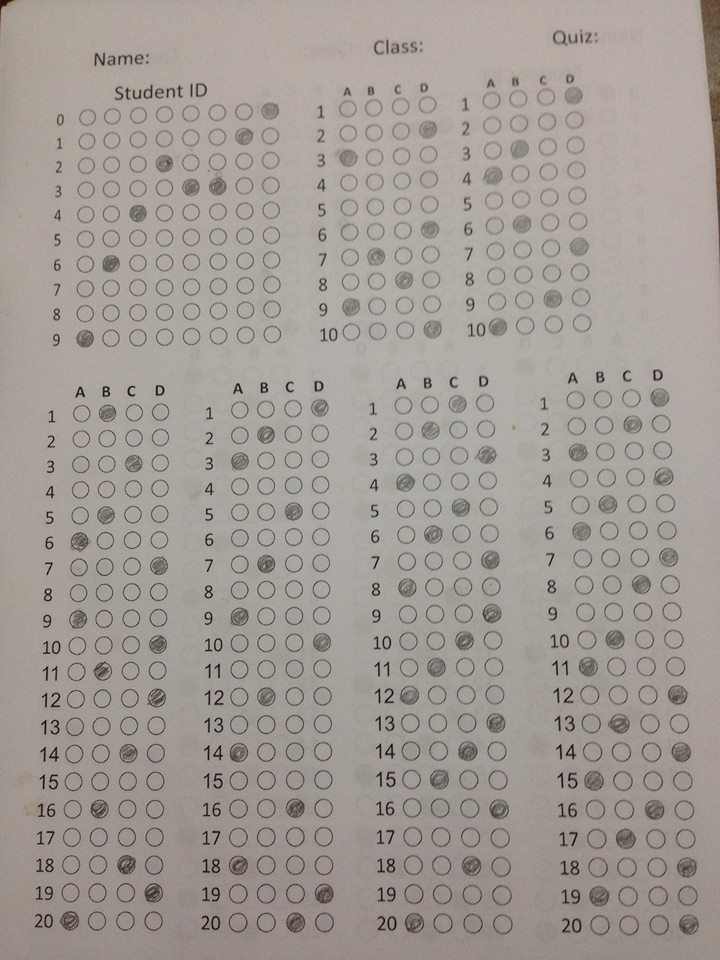not-c: (312, 909, 336, 934), (488, 854, 513, 878), (486, 739, 510, 763), (491, 911, 514, 935), (313, 768, 335, 793), (457, 797, 482, 819), (482, 683, 505, 706), (430, 882, 453, 905), (512, 288, 535, 311), (254, 911, 278, 933), (428, 738, 450, 762), (491, 825, 513, 849), (402, 882, 426, 904), (643, 770, 667, 792), (284, 657, 305, 682), (513, 238, 534, 263), (313, 738, 333, 764), (143, 910, 165, 933), (312, 711, 334, 734), (460, 825, 482, 848), (569, 260, 591, 283), (569, 493, 592, 515), (669, 712, 691, 735), (310, 499, 331, 523), (314, 853, 334, 878), (453, 686, 478, 706), (403, 852, 423, 877), (144, 771, 166, 793), (88, 853, 110, 875), (283, 398, 305, 420), (228, 714, 250, 736), (480, 575, 502, 597), (400, 824, 422, 846), (430, 824, 452, 846), (461, 883, 483, 905), (677, 885, 699, 907), (310, 658, 333, 679), (256, 853, 277, 876), (338, 171, 359, 194), (423, 551, 444, 574), (426, 711, 449, 732), (486, 768, 509, 789), (432, 913, 455, 934), (563, 108, 586, 129), (639, 713, 660, 736), (646, 855, 669, 876), (618, 884, 639, 907), (648, 913, 669, 936), (481, 657, 505, 677), (424, 685, 448, 705), (587, 915, 611, 935), (257, 825, 276, 850), (540, 265, 565, 284), (284, 770, 305, 792), (313, 797, 335, 818), (475, 393, 496, 415), (450, 470, 471, 492), (431, 855, 453, 876), (491, 884, 513, 905), (464, 911, 486, 932), (594, 414, 615, 436), (649, 413, 671, 434), (660, 601, 682, 622), (606, 655, 628, 676), (636, 655, 658, 676), (607, 684, 629, 705), (580, 742, 602, 763), (611, 743, 633, 764), (672, 772, 694, 793), (674, 799, 695, 821), (617, 856, 638, 878), (648, 886, 670, 907), (122, 633, 142, 656), (228, 554, 251, 574), (284, 715, 307, 735), (229, 825, 249, 848), (395, 498, 418, 518), (450, 551, 473, 571), (402, 798, 425, 818), (542, 236, 562, 259), (577, 627, 597, 650), (118, 826, 137, 850), (229, 769, 248, 793), (338, 199, 362, 218), (417, 196, 441, 215), (399, 715, 423, 734), (487, 289, 506, 313), (230, 400, 251, 421), (311, 423, 332, 444), (310, 553, 331, 574), (228, 882, 249, 903), (394, 246, 415, 267), (421, 447, 442, 468), (537, 136, 558, 157), (564, 136, 585, 157), (538, 162, 559, 183), (514, 316, 535, 337), (572, 313, 593, 334), (629, 547, 650, 568), (639, 684, 660, 705), (96, 428, 118, 448), (147, 660, 169, 680), (120, 715, 140, 737), (146, 826, 166, 848), (229, 475, 251, 495), (256, 659, 276, 681), (230, 685, 250, 707), (312, 688, 334, 708), (284, 853, 304, 875), (285, 885, 307, 905), (390, 148, 412, 168), (394, 446, 414, 468), (396, 632, 418, 652), (397, 657, 419, 677), (457, 713, 479, 733), (538, 187, 560, 207), (541, 211, 561, 233), (600, 548, 622, 568), (660, 573, 680, 595), (604, 601, 624, 623), (636, 628, 656, 650), (666, 656, 686, 678), (143, 800, 166, 819), (309, 475, 332, 494), (311, 579, 330, 602), (336, 99, 359, 118), (594, 468, 617, 487), (565, 417, 589, 435), (261, 225, 282, 245), (70, 480, 90, 501), (91, 744, 112, 764), (118, 771, 138, 792), (62, 799, 82, 820), (145, 854, 165, 875), (114, 911, 135, 931), (284, 580, 304, 601), (229, 632, 249, 653), (283, 686, 304, 706), (257, 742, 278, 762), (227, 798, 247, 819), (227, 913, 248, 933), (421, 293, 441, 314), (368, 322, 389, 342), (427, 632, 447, 653), (402, 769, 423, 789), (458, 769, 478, 790), (567, 161, 588, 181), (627, 494, 648, 514), (655, 492, 676, 512), (658, 520, 679, 540), (574, 575, 595, 595), (633, 601, 653, 622), (643, 741, 663, 762), (613, 772, 634, 792), (586, 799, 607, 819), (615, 800, 635, 821), (675, 830, 696, 850), (590, 856, 610, 877), (151, 451, 170, 473), (89, 828, 111, 847), (62, 854, 81, 876), (228, 426, 250, 445), (283, 528, 305, 547), (313, 605, 332, 627), (286, 741, 305, 763), (256, 800, 278, 819), (314, 825, 333, 847), (365, 124, 387, 143), (394, 322, 416, 341), (431, 796, 450, 818), (483, 141, 505, 160), (544, 315, 563, 337), (662, 630, 684, 649), (121, 557, 144, 575), (285, 631, 303, 654), (255, 715, 278, 733), (393, 423, 416, 441), (452, 578, 475, 596), (207, 227, 227, 247), (120, 687, 140, 707), (63, 771, 83, 791), (90, 772, 110, 792), (257, 477, 277, 497), (257, 528, 277, 548), (255, 633, 275, 653), (397, 552, 417, 572), (483, 630, 503, 650), (565, 390, 585, 410), (575, 603, 595, 623), (580, 685, 600, 705), (582, 713, 602, 733), (207, 202, 228, 221), (263, 275, 282, 296), (235, 301, 256, 320), (264, 324, 283, 345), (94, 688, 113, 709), (61, 828, 82, 847), (87, 884, 108, 903), (257, 399, 276, 420), (257, 580, 276, 601), (257, 770, 276, 791), (341, 323, 362, 342), (422, 394, 441, 415), (478, 418, 497, 439), (423, 472, 444, 491), (401, 741, 422, 760), (507, 89, 528, 108), (567, 184, 586, 205), (485, 243, 506, 262), (571, 287, 590, 308), (594, 389, 615, 408), (628, 520, 649, 539), (573, 547, 592, 568), (646, 828, 665, 849), (285, 449, 303, 471), (229, 502, 251, 520), (363, 98, 385, 116), (338, 250, 360, 268), (448, 420, 470, 438), (652, 442, 675, 459), (129, 106, 149, 125), (260, 126, 280, 145), (207, 153, 227, 172), (261, 151, 281, 170), (75, 180, 95, 199), (181, 203, 201, 222), (102, 277, 122, 296), (128, 278, 148, 297), (154, 278, 174, 297), (208, 278, 228, 297), (181, 302, 201, 321), (101, 328, 121, 347), (181, 327, 201, 346), (71, 429, 91, 448), (151, 478, 170, 498), (124, 506, 144, 525), (94, 635, 113, 655), (68, 661, 87, 681), (64, 746, 84, 765), (313, 527, 332, 547), (257, 884, 277, 903), (365, 148, 385, 167), (365, 173, 385, 192), (395, 296, 414, 316), (511, 189, 531, 208), (569, 211, 588, 231), (485, 266, 505, 285), (619, 916, 639, 935), (236, 175, 254, 196), (127, 229, 148, 247), (99, 454, 117, 475), (68, 585, 89, 603), (96, 582, 114, 603), (92, 715, 110, 736), (117, 801, 138, 819), (286, 604, 304, 625), (621, 388, 642, 406), (595, 444, 616, 462), (67, 688, 84, 710), (228, 529, 250, 546), (287, 825, 304, 847), (536, 89, 558, 106), (181, 228, 200, 247), (182, 253, 201, 272), (262, 299, 281, 318), (129, 327, 148, 346), (97, 481, 116, 500), (124, 530, 143, 549), (150, 530, 169, 549), (94, 609, 113, 628), (88, 911, 107, 930), (285, 476, 304, 495), (230, 659, 249, 678), (418, 169, 437, 188), (422, 272, 441, 291), (396, 525, 415, 544), (600, 521, 619, 540), (604, 575, 623, 594), (588, 830, 607, 849), (102, 108, 122, 126), (128, 154, 148, 172), (100, 304, 120, 322), (71, 404, 91, 422), (152, 427, 170, 447), (70, 506, 90, 524), (94, 557, 114, 575), (122, 584, 142, 602), (150, 582, 168, 602), (150, 609, 168, 629), (121, 662, 139, 682), (392, 172, 412, 190), (365, 224, 385, 242), (392, 223, 412, 241), (368, 297, 388, 315), (394, 398, 414, 416), (482, 92, 502, 110), (626, 440, 644, 460), (627, 467, 645, 487), (75, 255, 96, 272), (65, 719, 86, 736), (148, 743, 165, 764), (391, 98, 412, 115), (338, 225, 360, 241), (155, 106, 173, 125), (102, 156, 121, 174), (235, 152, 254, 170), (262, 176, 280, 195), (76, 205, 95, 223), (235, 202, 254, 220), (76, 230, 95, 248), (156, 253, 175, 271), (77, 278, 95, 297), (129, 304, 148, 322), (155, 303, 174, 321), (236, 326, 255, 344), (151, 403, 169, 422), (124, 429, 143, 447), (96, 532, 115, 550), (123, 609, 141, 628), (69, 636, 87, 655), (117, 883, 135, 902), (284, 426, 303, 444), (311, 450, 329, 469), (340, 125, 359, 143), (419, 146, 437, 165), (480, 470, 498, 489), (423, 500, 441, 519), (452, 525, 471, 543), (481, 525, 499, 544), (398, 605, 417, 623), (426, 605, 445, 623), (484, 117, 503, 135), (539, 111, 557, 130), (512, 165, 530, 184), (485, 218, 504, 236), (571, 469, 589, 488), (75, 158, 95, 175), (101, 181, 121, 198), (156, 228, 173, 248), (71, 456, 91, 473), (257, 452, 277, 469), (258, 606, 275, 626), (419, 95, 436, 115), (393, 198, 413, 215), (341, 273, 361, 290), (450, 448, 470, 465), (479, 498, 499, 515), (425, 579, 445, 596), (456, 658, 476, 675), (210, 127, 228, 145), (129, 180, 147, 198), (262, 201, 280, 219), (129, 254, 147, 272), (151, 505, 169, 523), (71, 558, 89, 576), (62, 885, 80, 903), (285, 556, 303, 574), (231, 583, 249, 601), (76, 132, 95, 149), (181, 130, 200, 147), (154, 205, 173, 222), (103, 229, 120, 248), (263, 251, 282, 268), (184, 278, 201, 297), (236, 276, 253, 295), (391, 124, 410, 141), (455, 605, 474, 622), (510, 114, 527, 133), (155, 329, 175, 345), (484, 194, 504, 210), (79, 109, 97, 126), (103, 133, 121, 150), (130, 131, 148, 148), (237, 227, 254, 245), (210, 252, 227, 270), (236, 251, 254, 268), (211, 301, 228, 319), (124, 481, 142, 498), (258, 504, 275, 522), (368, 274, 385, 292), (180, 105, 199, 121), (149, 717, 165, 736), (368, 198, 384, 217), (209, 105, 226, 122), (236, 104, 253, 121), (77, 305, 94, 322), (155, 180, 173, 196), (103, 207, 121, 223), (210, 328, 228, 344), (126, 404, 142, 422), (422, 247, 440, 263), (183, 154, 200, 170), (515, 266, 531, 283), (156, 132, 174, 147)
taken-c: (88, 797, 111, 821), (227, 740, 250, 764), (459, 854, 483, 877), (402, 911, 425, 934), (339, 296, 363, 318), (588, 884, 610, 908), (127, 202, 150, 224), (122, 452, 145, 474), (487, 797, 510, 819), (621, 414, 644, 436), (667, 683, 689, 706), (670, 741, 692, 764), (614, 827, 636, 850), (147, 633, 169, 655), (91, 660, 113, 682), (365, 246, 387, 268), (428, 768, 450, 790), (677, 912, 699, 934), (145, 686, 168, 707), (116, 853, 137, 876), (284, 797, 307, 818), (418, 219, 441, 240), (577, 655, 598, 678), (608, 712, 631, 733), (228, 853, 248, 877), (259, 100, 281, 121), (148, 555, 170, 576), (255, 685, 276, 707), (229, 606, 251, 627), (255, 423, 276, 445), (422, 319, 444, 340), (511, 213, 533, 234), (481, 164, 503, 185), (509, 138, 530, 160), (648, 385, 669, 407), (657, 545, 678, 567), (676, 857, 698, 878), (568, 236, 591, 256), (207, 176, 228, 197), (309, 397, 330, 418), (487, 316, 508, 337), (562, 83, 583, 104), (395, 472, 416, 493), (571, 520, 592, 541), (583, 770, 604, 791), (74, 328, 96, 348), (118, 741, 138, 763), (59, 908, 79, 930), (229, 450, 251, 470), (541, 288, 563, 308), (425, 657, 447, 677), (653, 464, 673, 486), (605, 628, 625, 650), (233, 124, 253, 145), (154, 153, 174, 174), (96, 402, 117, 422), (68, 608, 88, 629), (143, 882, 163, 903), (284, 911, 304, 932), (313, 882, 333, 903), (311, 631, 331, 652), (454, 630, 474, 651), (567, 440, 587, 461), (644, 798, 664, 819), (180, 176, 200, 196), (394, 270, 414, 290), (337, 147, 357, 167), (457, 740, 477, 760), (485, 712, 505, 732), (597, 493, 617, 513), (480, 549, 499, 570), (449, 497, 470, 516), (69, 531, 89, 550), (283, 501, 303, 520), (418, 119, 437, 139), (399, 685, 419, 704), (482, 602, 501, 622), (397, 577, 416, 597), (423, 523, 442, 543), (631, 574, 651, 593), (100, 254, 121, 272), (96, 504, 115, 523), (256, 554, 275, 573), (476, 444, 495, 463), (447, 393, 466, 412), (420, 421, 439, 439)
